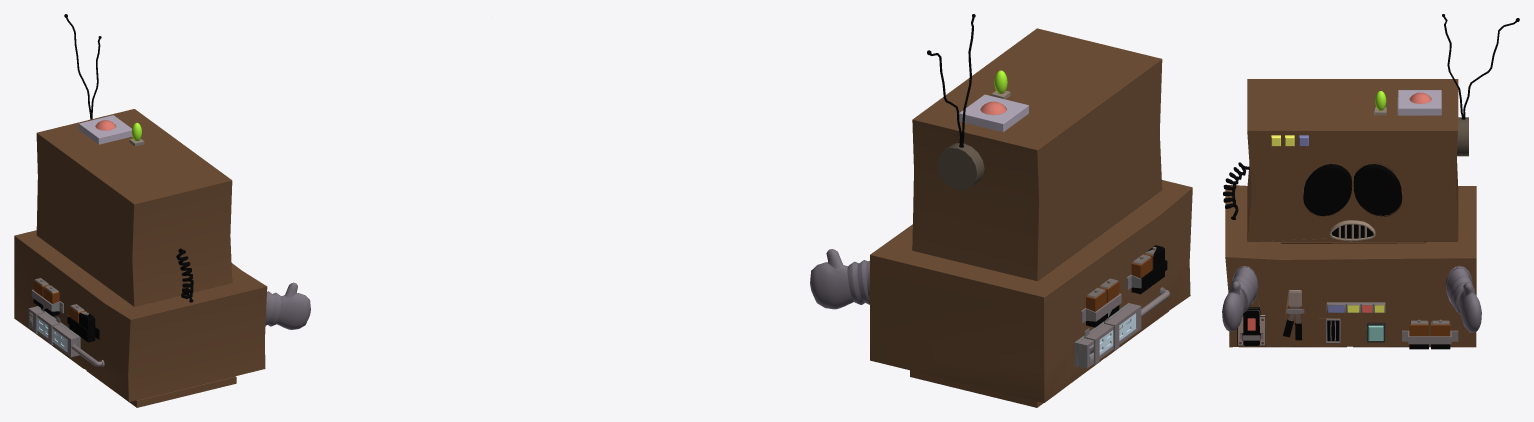
The model's file is Aweoson-o.obj.
The picture shows the model from 3 angles, left to right: view 1: azimuth 30°, elevation 25°; view 2: azimuth 150°, elevation 25°; view 3: azimuth 270°, elevation 25°; orthographic projection. The views are drawn at different scales.
Parts seen in each view (by area): view 1: polySurface140; view 2: polySurface140; view 3: polySurface140.
Boxes of the visible parts, x1=… form: polySurface140: x1=14, y1=14, x2=310, y2=407; polySurface140: x1=810, y1=14, x2=1192, y2=407; polySurface140: x1=1222, y1=14, x2=1519, y2=349.
Size of the model in its own units: 8.42 by 5.13 by 4.45.
Materials: 58 (56 with a texture image).
